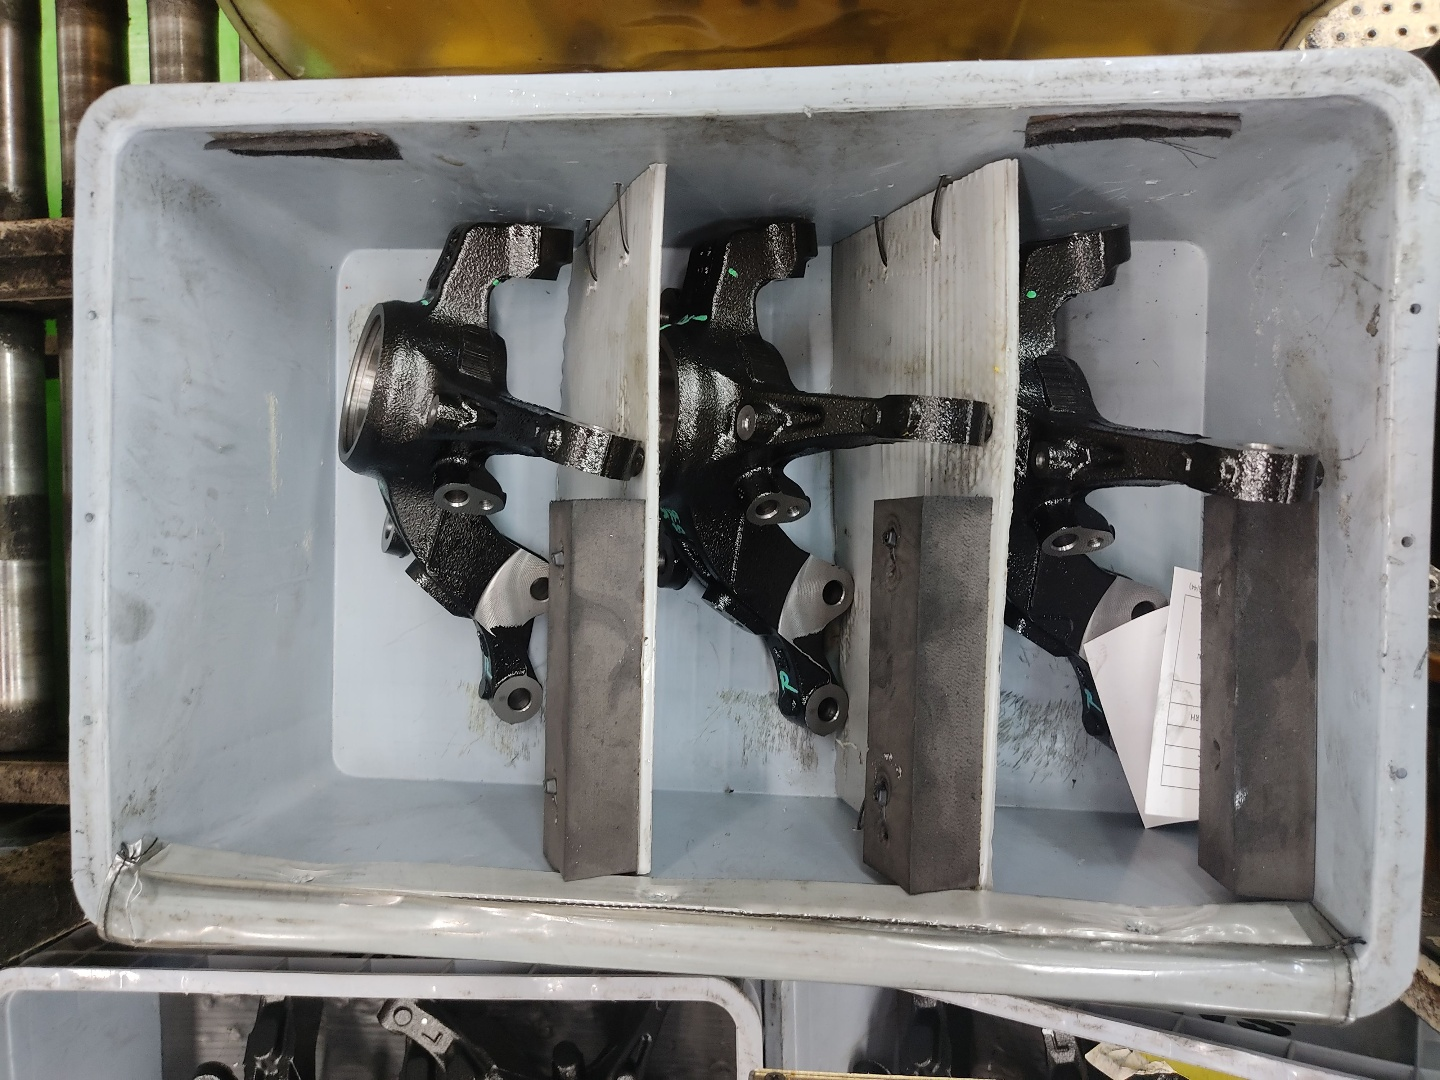abs-rh: (657, 206, 994, 753), (1010, 205, 1328, 767), (319, 210, 647, 729)
